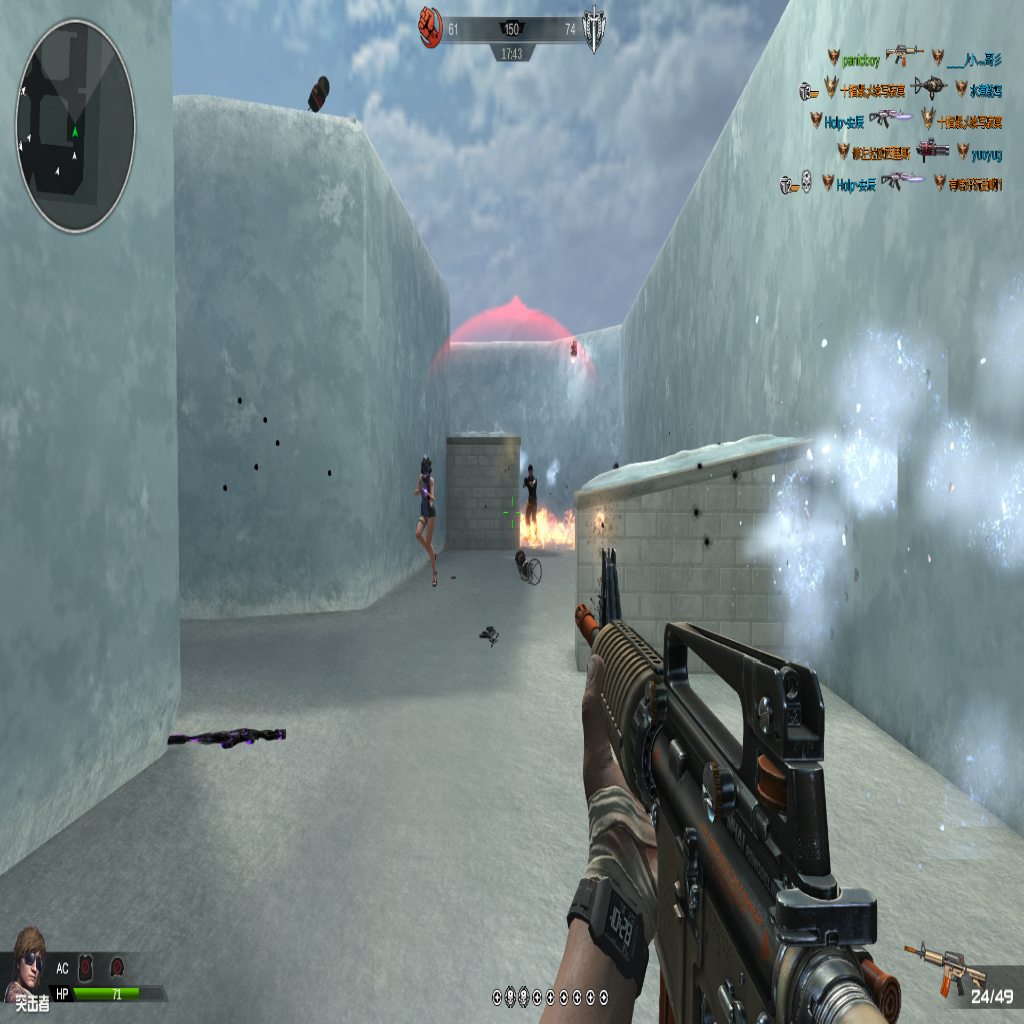ct: (413, 452, 440, 590), (523, 461, 539, 541)
